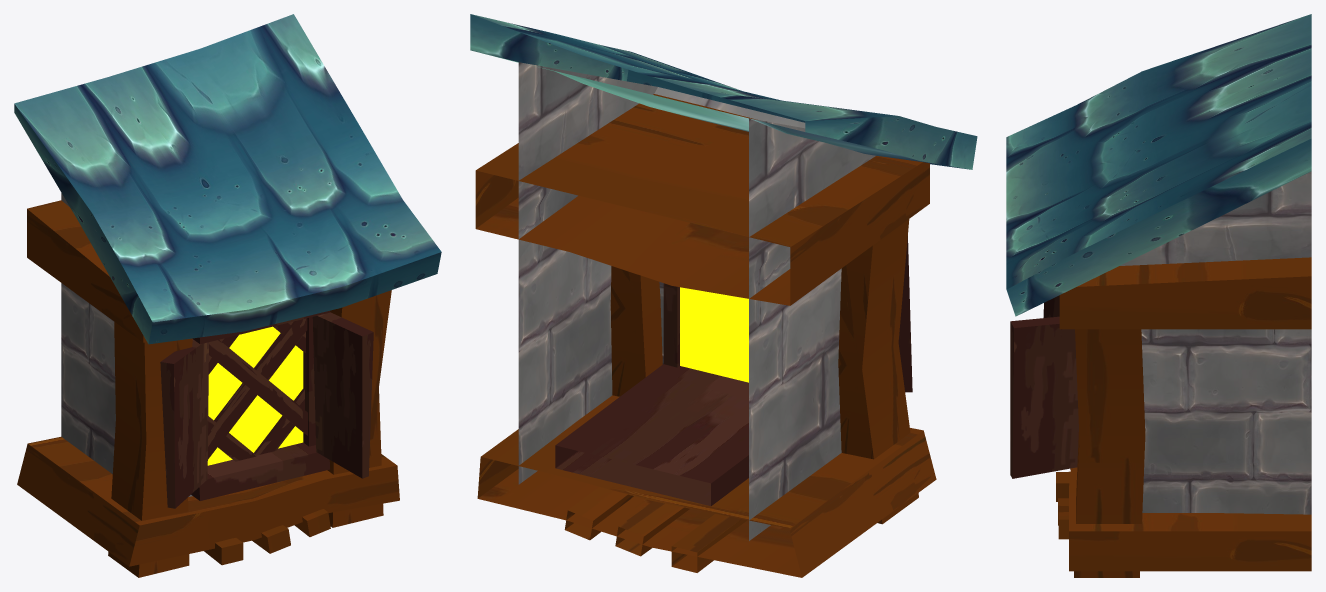
The model's file is SM_BLD_window_v01_01.glb.
3 views of the same model, side by side, from view 1: azimuth 30°, elevation 25°; view 2: azimuth 150°, elevation 25°; view 3: azimuth 270°, elevation 25° (orthographic). The views are drawn at different scales.
Parts seen in each view (by area): view 1: SM_BLD_window_v01_01_EXPORT; view 2: SM_BLD_window_v01_01_EXPORT; view 3: SM_BLD_window_v01_01_EXPORT.
Boxes of the visible parts, x1,y1,x2,y2 form: SM_BLD_window_v01_01_EXPORT: [14, 14, 441, 577]; SM_BLD_window_v01_01_EXPORT: [470, 14, 977, 577]; SM_BLD_window_v01_01_EXPORT: [1006, 14, 1311, 577].
Size of the model in its own units: 2.39 by 3.32 by 2.02.
5 materials, 5 textured.
